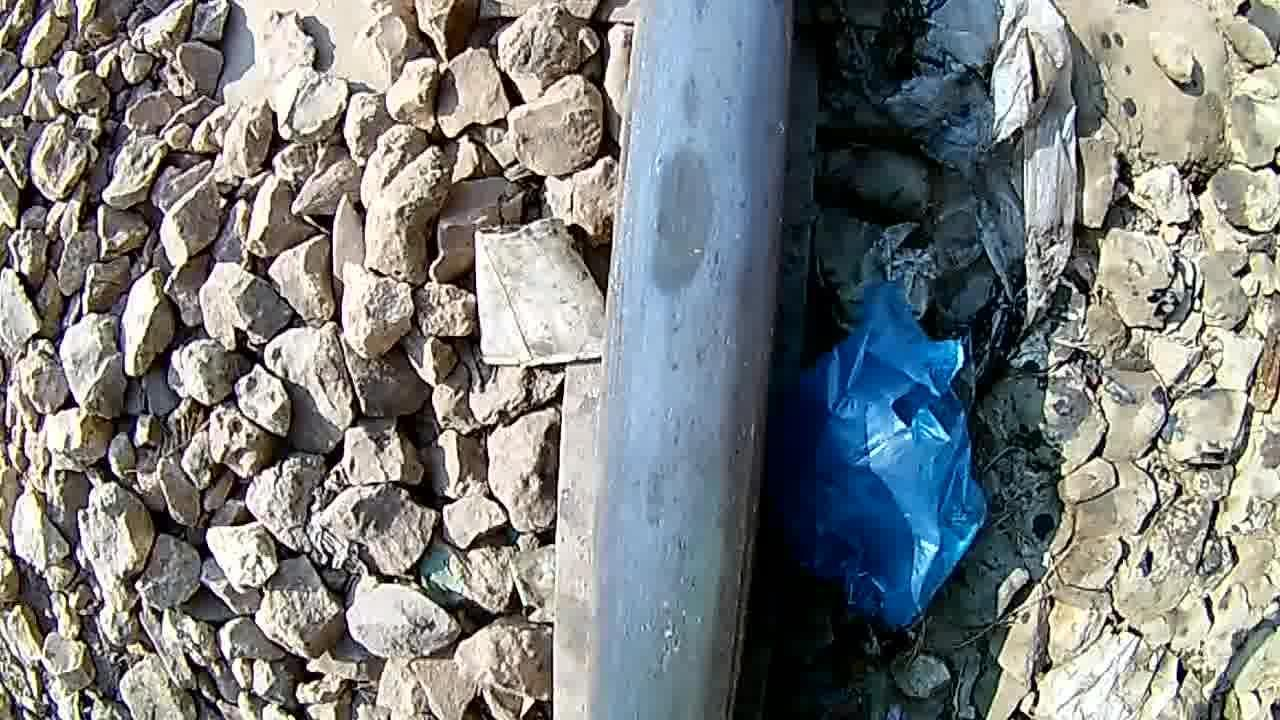crack: (626, 0, 761, 369)
